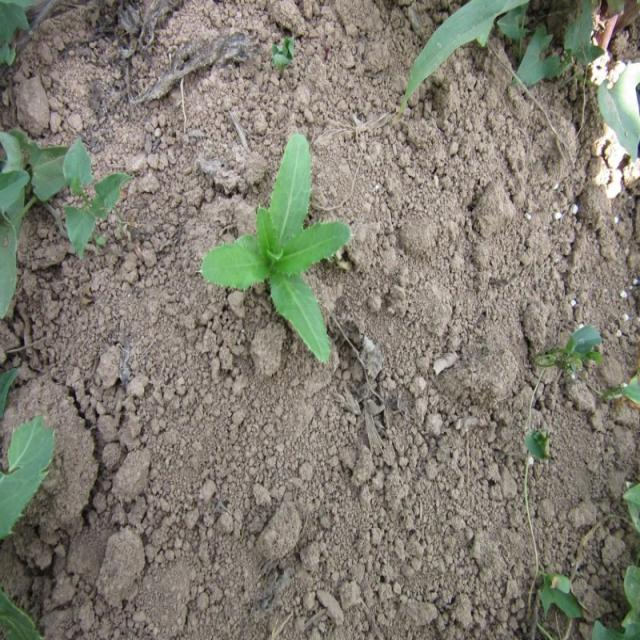field_thistle: (195, 117, 359, 367)
